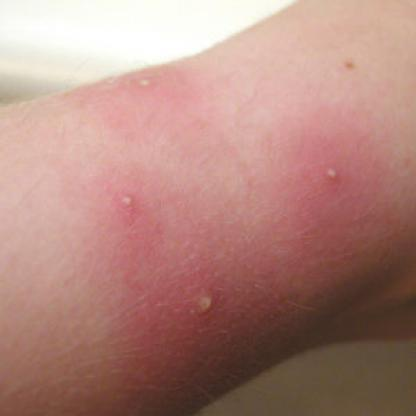Fire ant: (193, 291, 215, 315), (322, 162, 345, 183), (132, 74, 154, 94), (118, 190, 136, 212)
